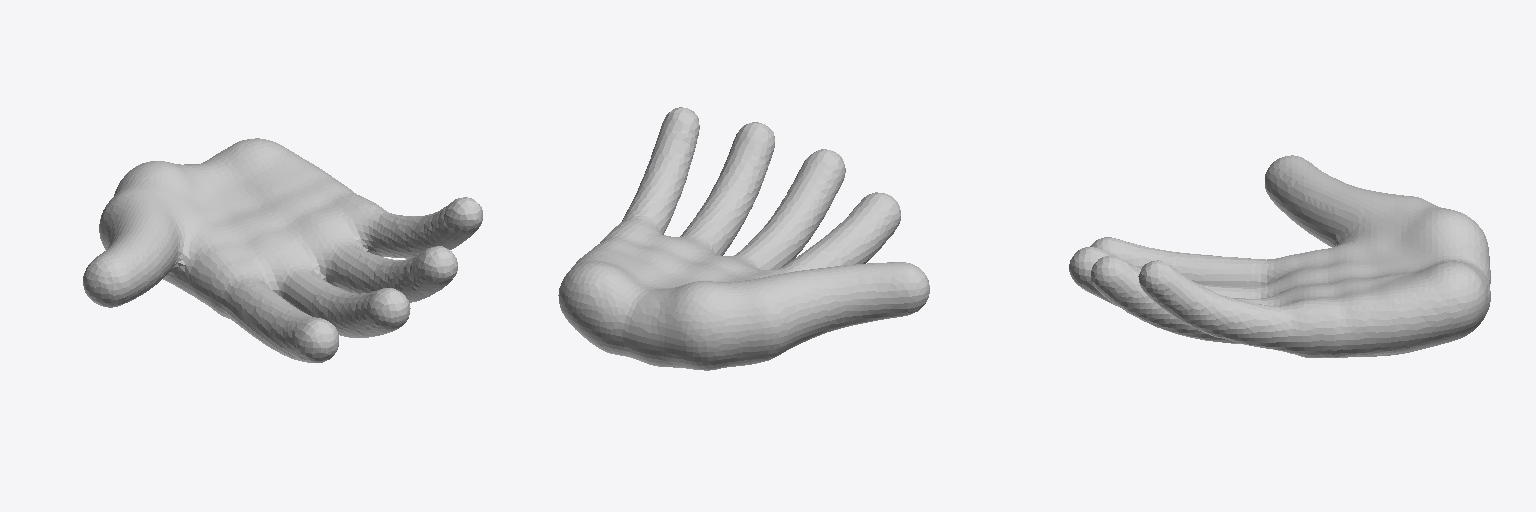
File: hand.obj
3 views of the same model, side by side, from view 1: azimuth 30°, elevation 25°; view 2: azimuth 150°, elevation 25°; view 3: azimuth 270°, elevation 25° (orthographic).
Parts seen in each view (by area): view 1: <OFFRoot> 메시; view 2: <OFFRoot> 메시; view 3: <OFFRoot> 메시.
Part boxes in pixels (x1,y1,x2,y2): <OFFRoot> 메시: (83, 138, 482, 362); <OFFRoot> 메시: (558, 107, 929, 370); <OFFRoot> 메시: (1069, 155, 1490, 357).
Bounding box in the file's own units: 0.8537 × 0.3293 × 0.95.